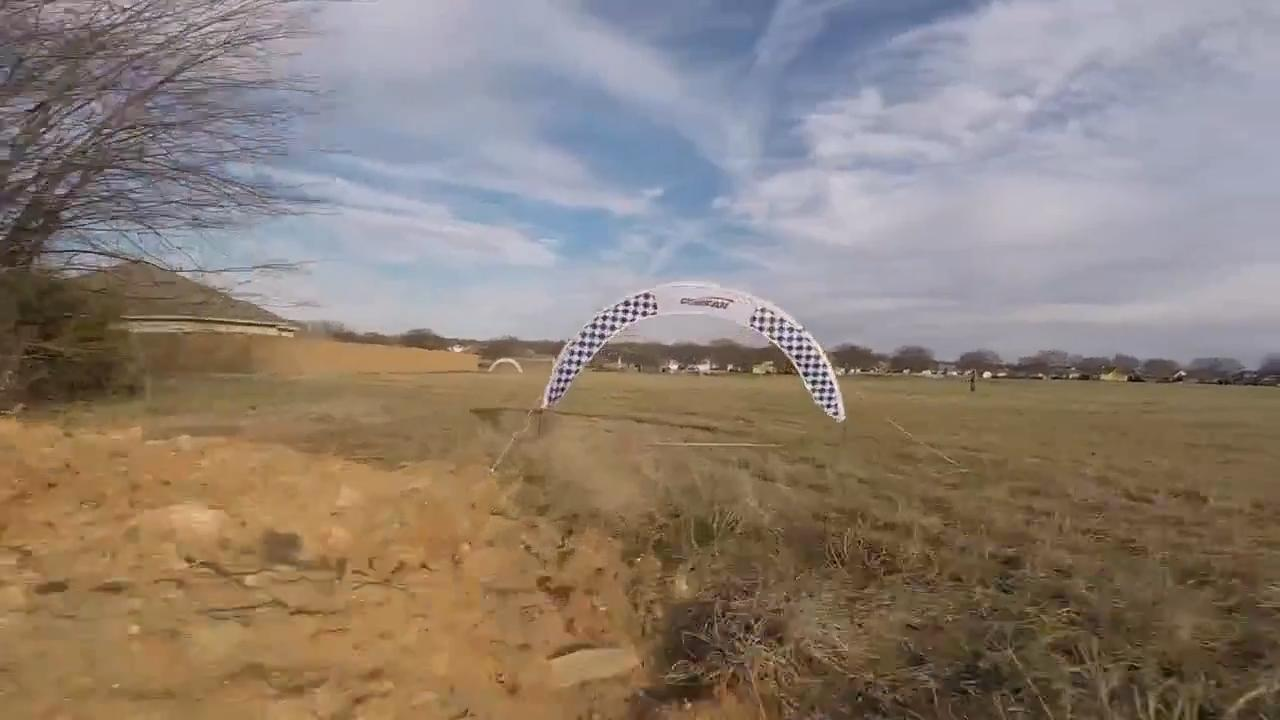gate: (532, 284, 848, 424)
